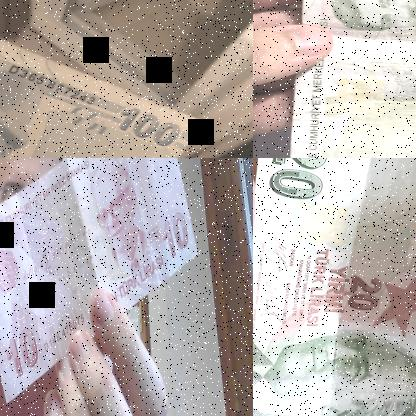5 TL: (0, 30, 207, 157)
